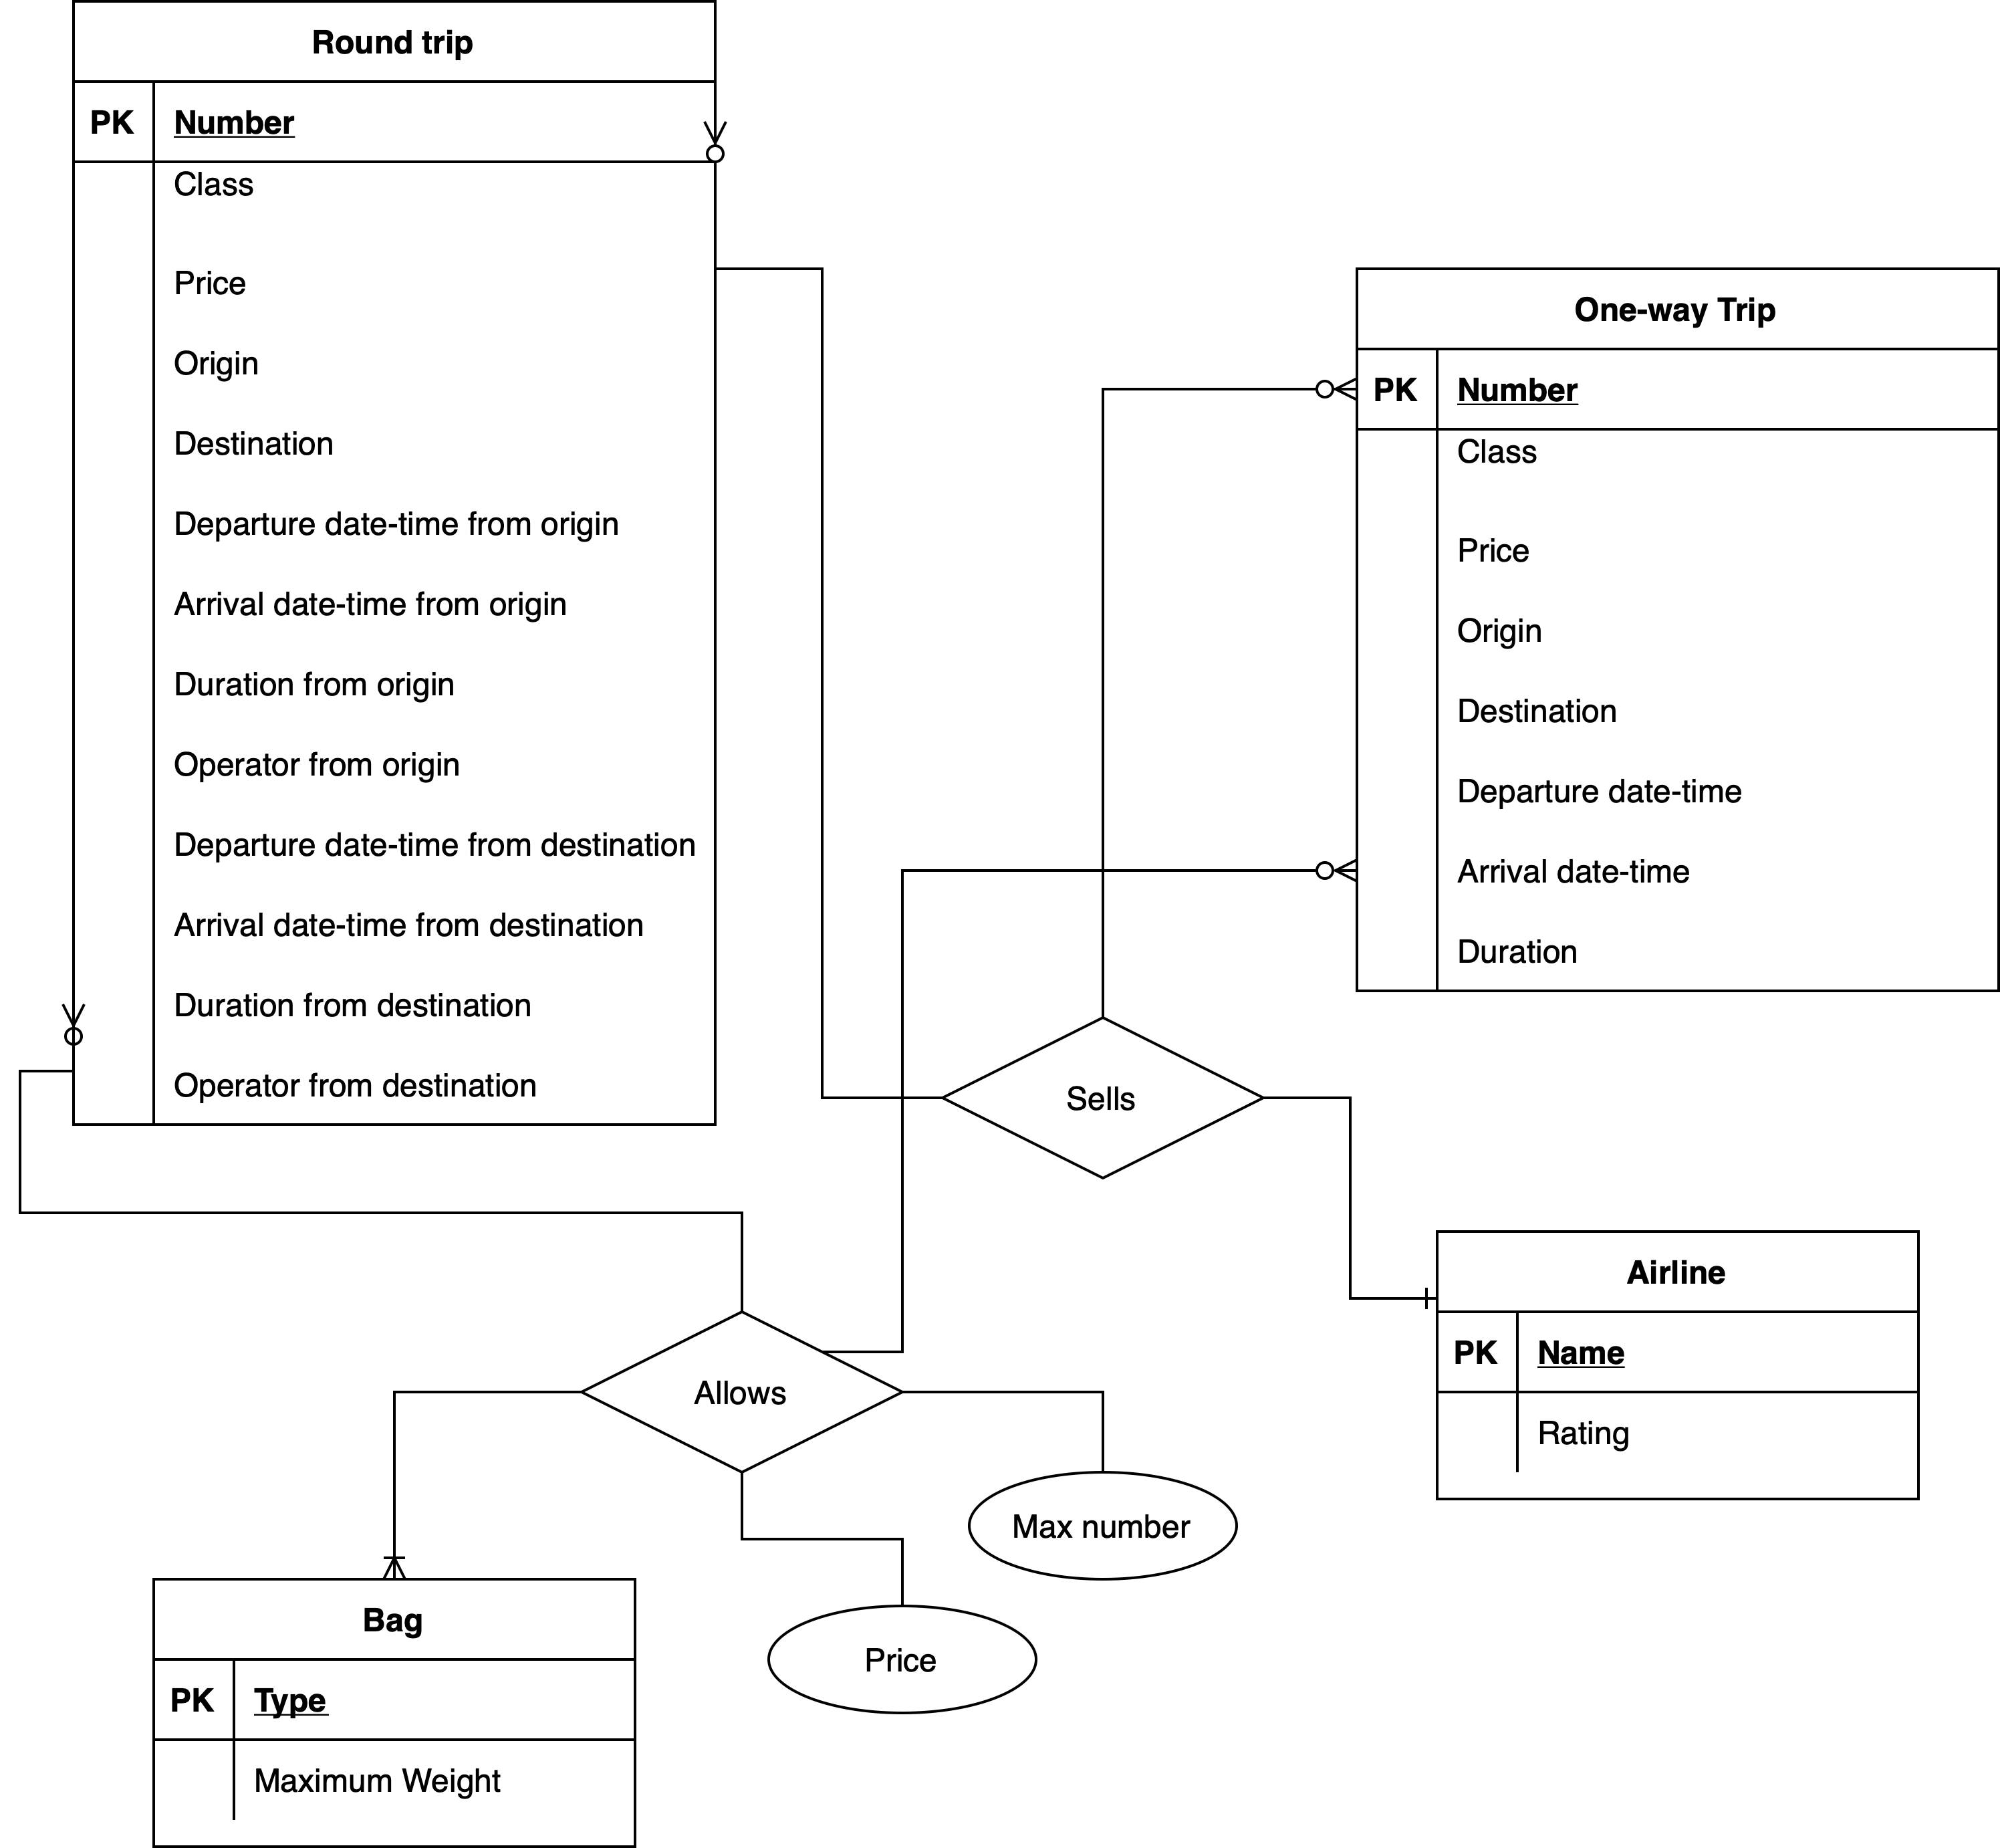entity: (73, 2, 718, 1123), (1354, 270, 2000, 995), (1437, 1228, 1925, 1507), (152, 1580, 636, 1848)
many: (1279, 369, 1362, 413), (700, 115, 730, 223), (1274, 855, 1359, 890), (61, 996, 87, 1068), (383, 1515, 409, 1583)
one: (1352, 1282, 1443, 1313)
rel: (948, 1019, 1261, 1179), (582, 1315, 902, 1460)
rel_attr: (770, 1602, 1042, 1707), (970, 1470, 1235, 1576)
